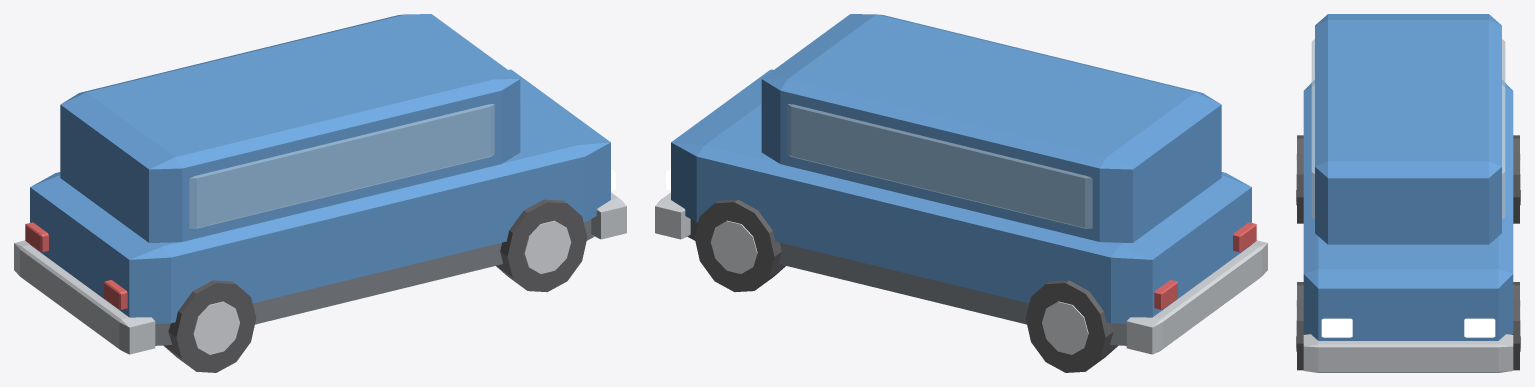
File: b03_fullsize_passenger_van.glb
3 renders of one model, left to right at view 1: azimuth 30°, elevation 25°; view 2: azimuth 150°, elevation 25°; view 3: azimuth 270°, elevation 25°, orthographic. The views are drawn at different scales.
Parts seen in each view (by area): view 1: b03_fullsize_passenger_van; view 2: b03_fullsize_passenger_van; view 3: b03_fullsize_passenger_van.
Boxes of the visible parts, bbox=[...] form: b03_fullsize_passenger_van: bbox=[14, 14, 626, 372]; b03_fullsize_passenger_van: bbox=[655, 14, 1267, 372]; b03_fullsize_passenger_van: bbox=[1296, 14, 1520, 372].
Size of the model in its own units: 5.76 by 2.3 by 2.47.
